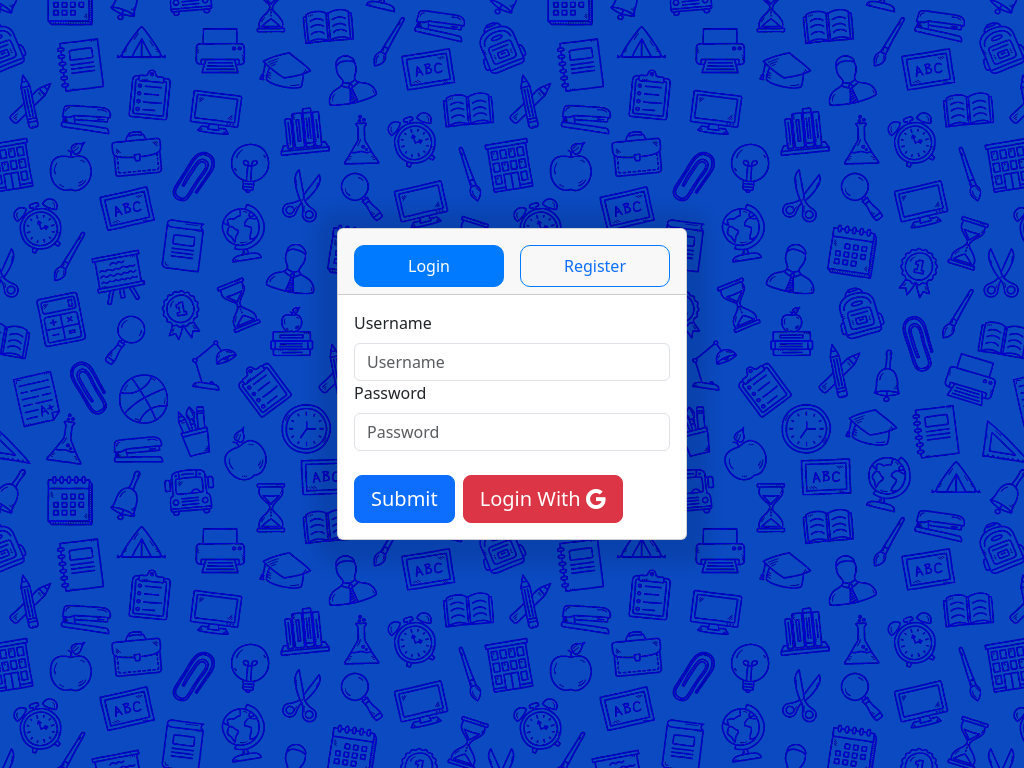
Test: testing Login and Register components › clicking pills changes forms
The image size is (1024, 768).
Click the tab "Register" at (595, 266), box x1=520 y1=245 x2=670 y2=287
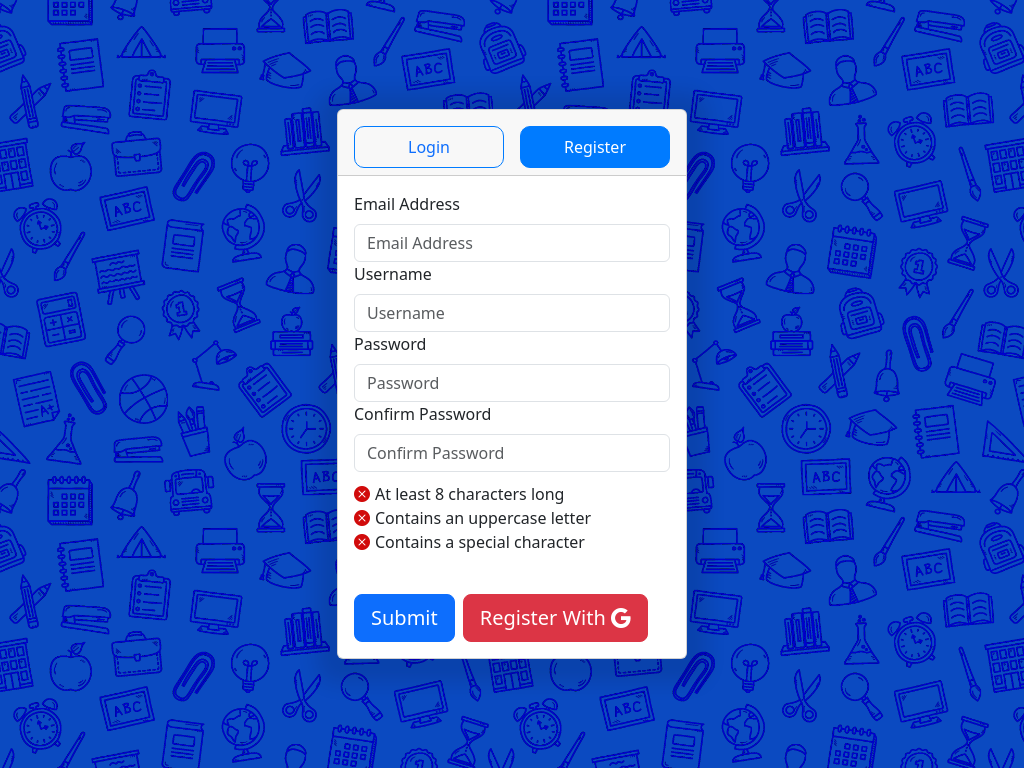
Now the field with placeholder "Username" is shown, box x1=354 y1=294 x2=670 y2=332
Now the password field with placeholder "Password" is shown, box x1=354 y1=364 x2=670 y2=402
Now the field with placeholder "Email Address" is shown, box x1=354 y1=224 x2=670 y2=262
